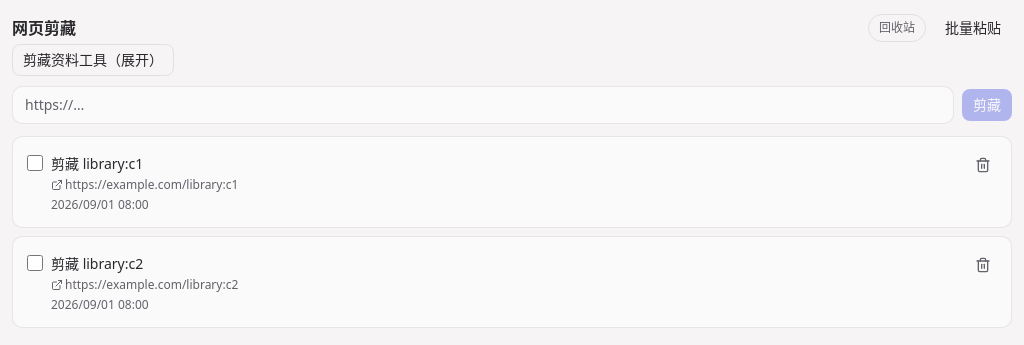
Scenario: ClipsPage › 列表：行渲染（标题安全外链）+ 立即删除（行消失 + 正确 ref）
expect the button "剪藏 library:c1" is shown: met, box [51,154,143,174]
expect the text "剪藏 library:c2" is shown: met, box [51,254,143,274]
Click the button named "删除剪藏" in the row of "https://example.com/library:c2" at (983, 265), box [969,251,997,279]
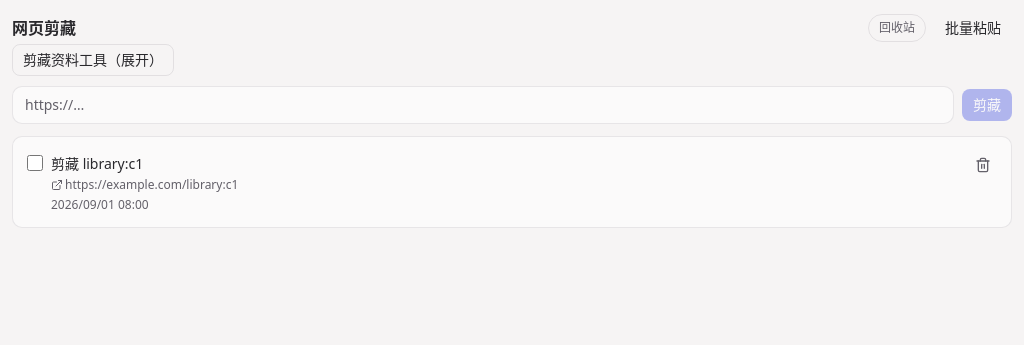
expect the button "剪藏 library:c2" is gone: met
